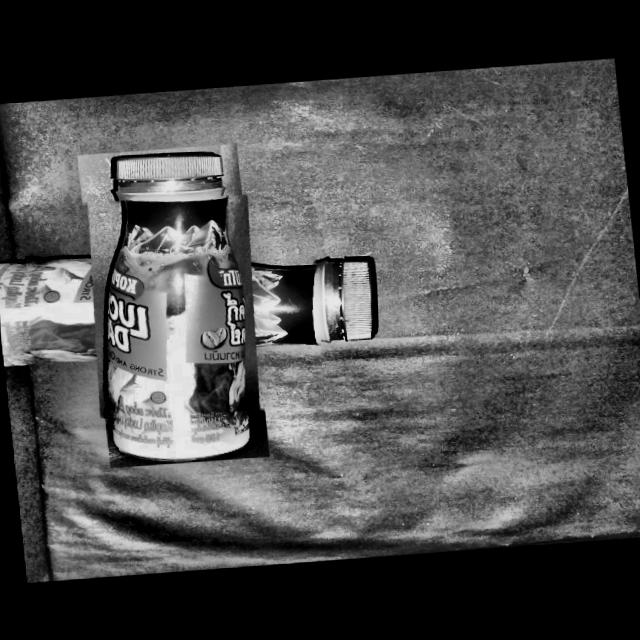Plastic-Bottle: (13, 184, 331, 427)
